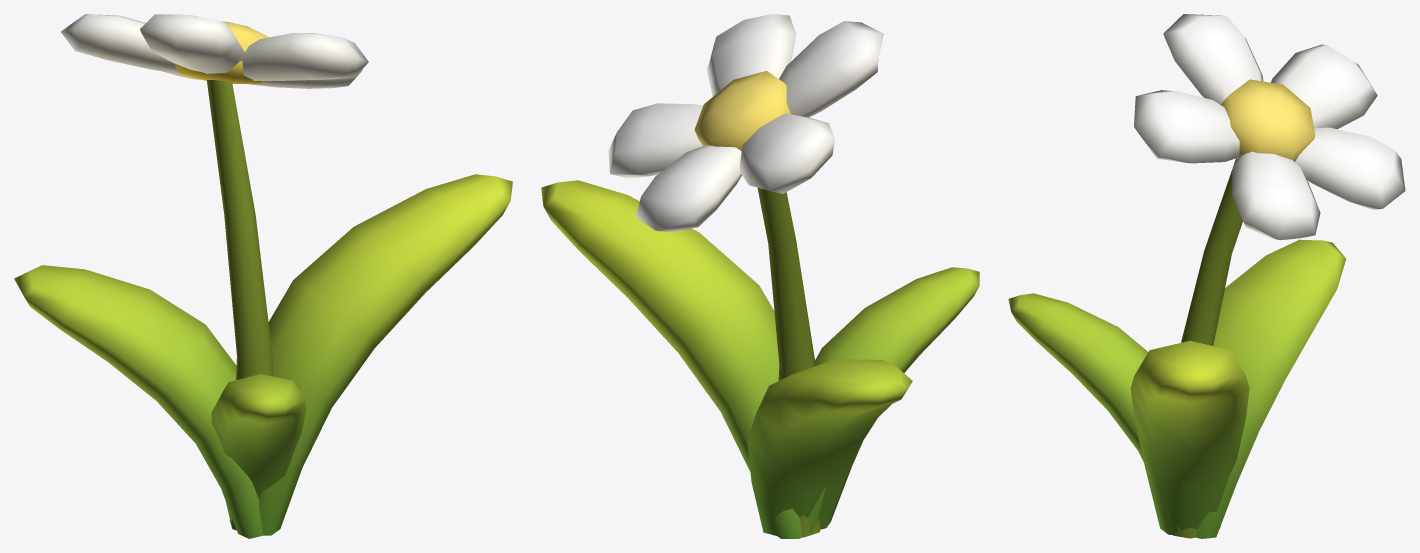
Rendered from Flower.fbx.
The picture shows the model from 3 angles, left to right: view 1: azimuth 30°, elevation 25°; view 2: azimuth 150°, elevation 25°; view 3: azimuth 270°, elevation 25°; orthographic projection. The views are drawn at different scales.
Visible parts, largest first — view 1: Flower; view 2: Flower; view 3: Flower.
Boxes of the visible parts, x1,y1,x2,y2 form: Flower: (14, 14, 512, 538); Flower: (541, 14, 979, 538); Flower: (1008, 14, 1405, 538).
Bounding box in the file's own units: 0.4145 × 0.4808 × 0.3592.
1 material, 1 textured.
